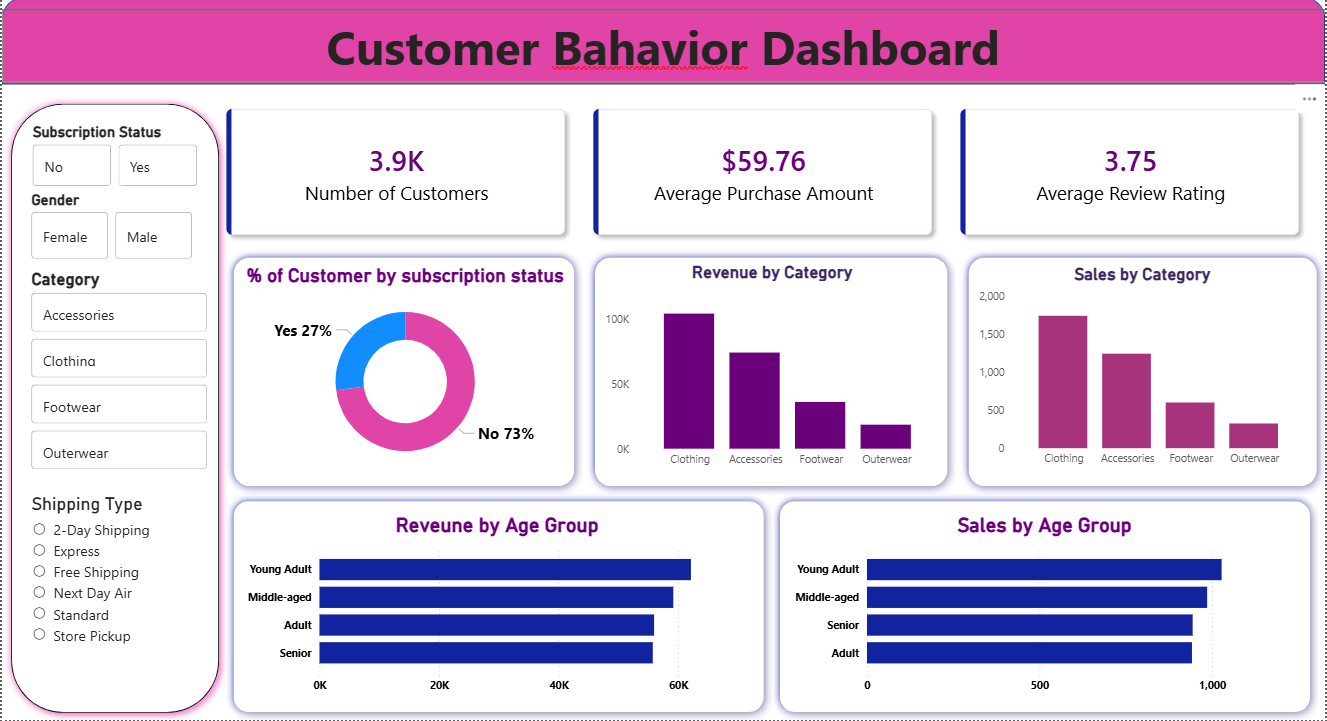

Layout of this report page (visuals, bound fields, positions):
{"tool":"powerbi","page":{"name":"Page 1","canvas":[1500,820],"ordinal":0},"visuals":[{"type":"cardVisual","fields":{"Data":["public customer.Number of Customers","public customer.Average Purchase Amount","public customer.Average Review Rating"]},"box":[224.9,98.1,1274.8,201.2],"z":0},{"type":"shape","box":[0,0,1499.7,98.1],"z":1000},{"type":"textbox","box":[0,13.5,1499.7,84.5],"z":2000},{"type":"shape","box":[253.6,285.7,404.1,277.3],"z":3000},{"type":"donutChart","title":"% of Customer by subscription status","fields":{"Category":["public customer.subscription_status"],"Y":["CountNonNull(public customer.customer_id)"]},"box":[272.2,302.6,370.3,241.8],"z":4000},{"type":"shape","box":[663.6,285.7,417.6,277.3],"z":5000},{"type":"shape","box":[1087.1,285.7,412.5,277.3],"z":6000},{"type":"clusteredColumnChart","title":"Revenue by Category","fields":{"Y":["Sum(public customer.purchase_amount)"],"Category":["public customer.category"]},"box":[678.6,299.9,388.9,241.8],"z":7000},{"type":"clusteredColumnChart","title":"Sales by Category","fields":{"Category":["public customer.category"],"Y":["CountNonNull(public customer.customer_id)"]},"box":[1102.4,302.6,380.4,238.4],"z":8000},{"type":"shape","box":[1.7,111.6,253.6,708.4],"z":9000},{"type":"advancedSlicerVisual","title":"Subscription Status","fields":{"Values":["public customer.subscription_status"]},"box":[29.2,140.7,197.8,79.4],"z":9001},{"type":"advancedSlicerVisual","title":"Gender","fields":{"Values":["public customer.gender"]},"box":[28.7,219.8,192.7,82.8],"z":9002},{"type":"advancedSlicerVisual","title":"Category","fields":{"Values":["public customer.category"]},"box":[28.7,309.4,209.7,235],"z":9003},{"type":"listSlicer","title":"Shipping Type","fields":{"Values":["public customer.shipping_type"]},"box":[28.7,563,197.8,224.9],"z":9004},{"type":"shape","box":[253.6,563,618.8,257],"z":9006},{"type":"clusteredBarChart","title":"Reveune by Age Group","fields":{"Y":["Sum(public customer.purchase_amount)"],"Category":["public customer.age_group"]},"box":[272.2,585,578.2,213],"z":9007},{"type":"shape","box":[872.4,563,618.8,257],"z":9008},{"type":"clusteredBarChart","title":"Sales by Age Group","fields":{"Category":["public customer.age_group"],"Y":["CountNonNull(public customer.customer_id)"]},"box":[892.7,585,578.2,213],"z":9009}]}

Visuals, with their boxes in screenshot pixels (x1, y1, x2, y2), scaled from the page's 1500x820 canvas onto the 1327x721 screenshot:
cardVisual - public customer.Number of Customers x public customer.Average Purchase Amount: {"left": 199, "top": 86, "right": 1326, "bottom": 263}
shape: {"left": 0, "top": 0, "right": 1326, "bottom": 86}
textbox: {"left": 0, "top": 12, "right": 1326, "bottom": 86}
shape: {"left": 224, "top": 251, "right": 582, "bottom": 495}
"% of Customer by subscription status" donutChart: {"left": 241, "top": 266, "right": 568, "bottom": 479}
shape: {"left": 587, "top": 251, "right": 957, "bottom": 495}
shape: {"left": 962, "top": 251, "right": 1326, "bottom": 495}
"Revenue by Category" clusteredColumnChart: {"left": 600, "top": 264, "right": 944, "bottom": 476}
"Sales by Category" clusteredColumnChart: {"left": 975, "top": 266, "right": 1312, "bottom": 476}
shape: {"left": 2, "top": 98, "right": 226, "bottom": 720}
"Subscription Status" advancedSlicerVisual: {"left": 26, "top": 124, "right": 201, "bottom": 194}
"Gender" advancedSlicerVisual: {"left": 25, "top": 193, "right": 196, "bottom": 266}
"Category" advancedSlicerVisual: {"left": 25, "top": 272, "right": 211, "bottom": 479}
"Shipping Type" listSlicer: {"left": 25, "top": 495, "right": 200, "bottom": 693}
shape: {"left": 224, "top": 495, "right": 772, "bottom": 720}
"Reveune by Age Group" clusteredBarChart: {"left": 241, "top": 514, "right": 752, "bottom": 702}
shape: {"left": 772, "top": 495, "right": 1319, "bottom": 720}
"Sales by Age Group" clusteredBarChart: {"left": 790, "top": 514, "right": 1301, "bottom": 702}
